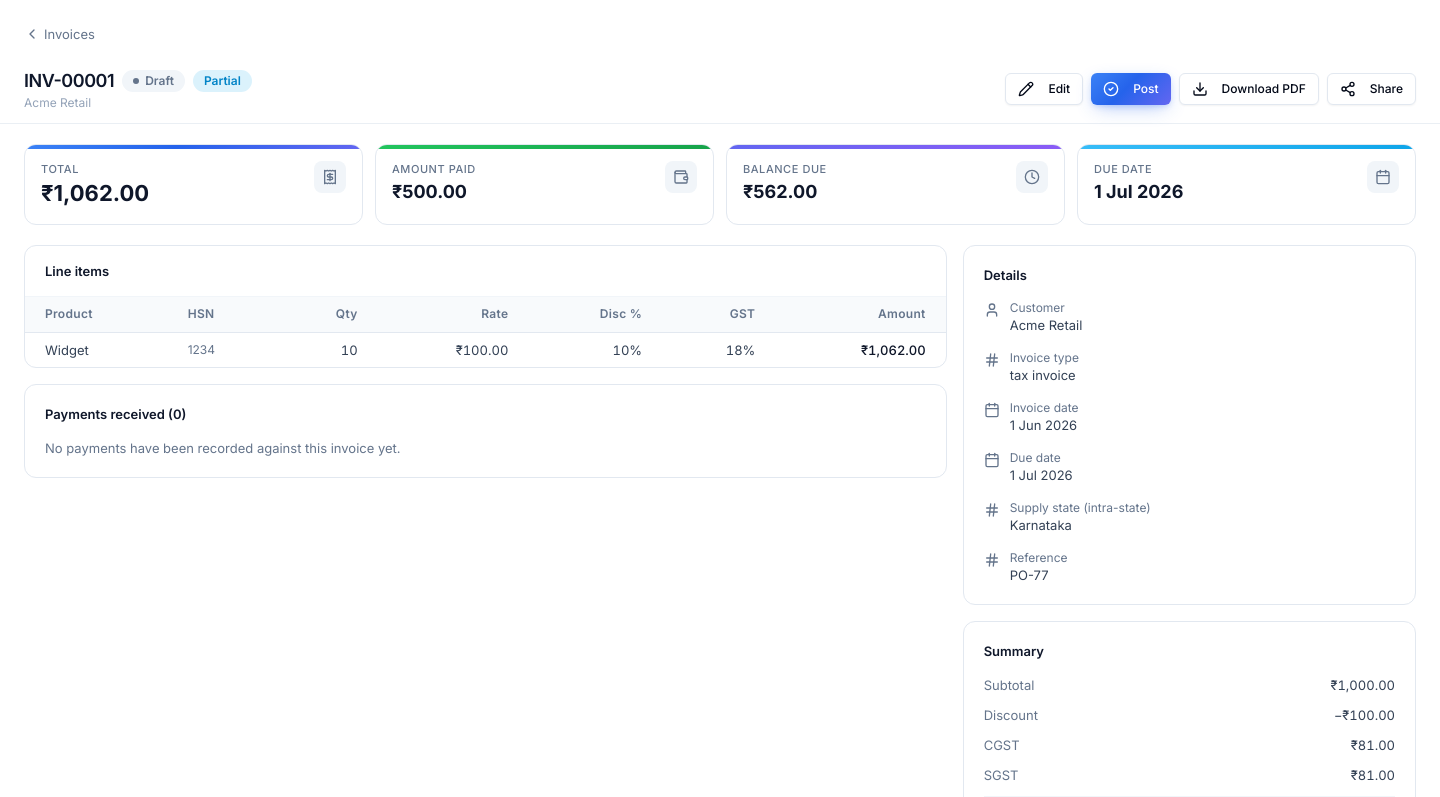
Test: InvoiceDetail › surfaces an action error
Click the button "Post" at (1131, 89), box [1091,73,1171,105]
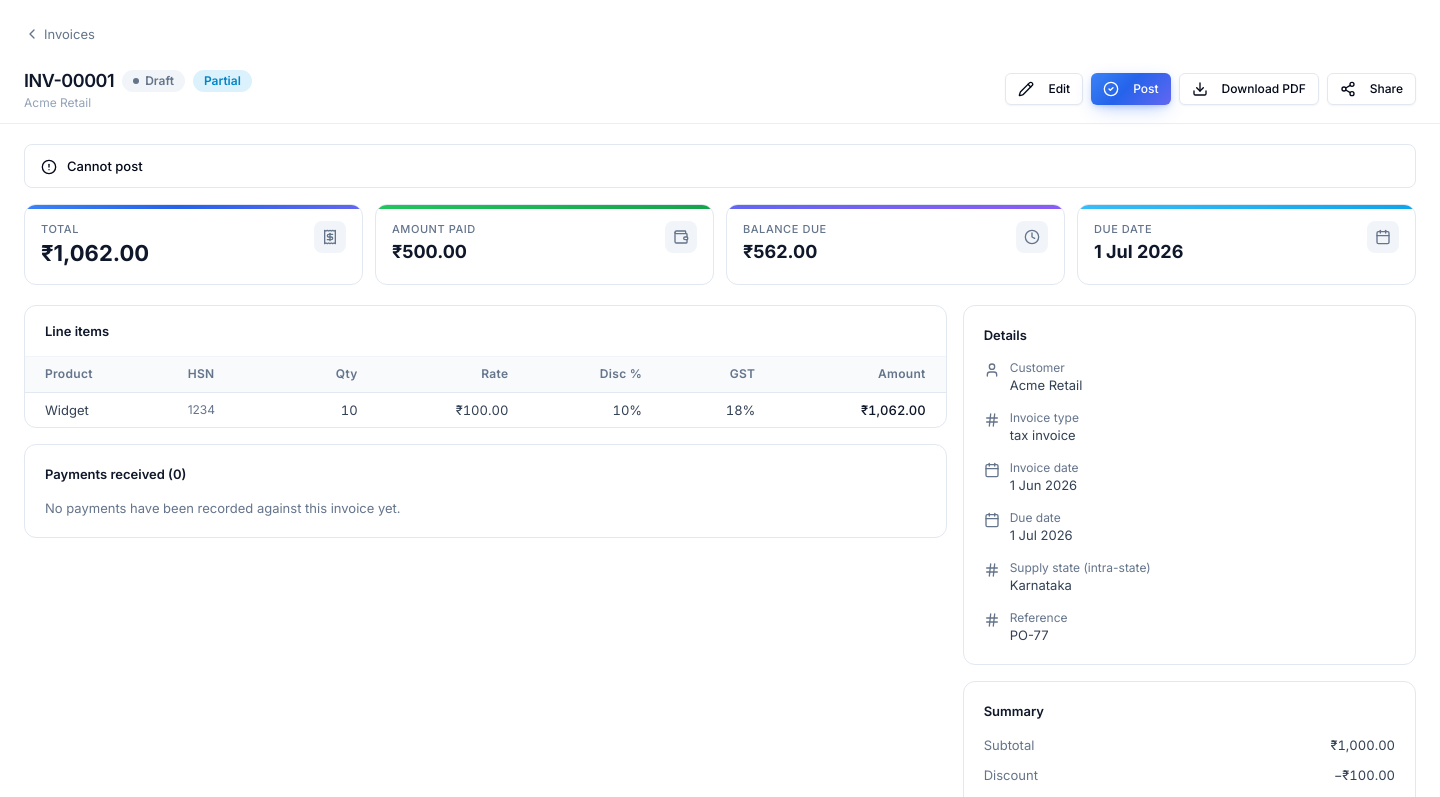
Expected: the text "Cannot post" is shown, [67,157,143,175]
